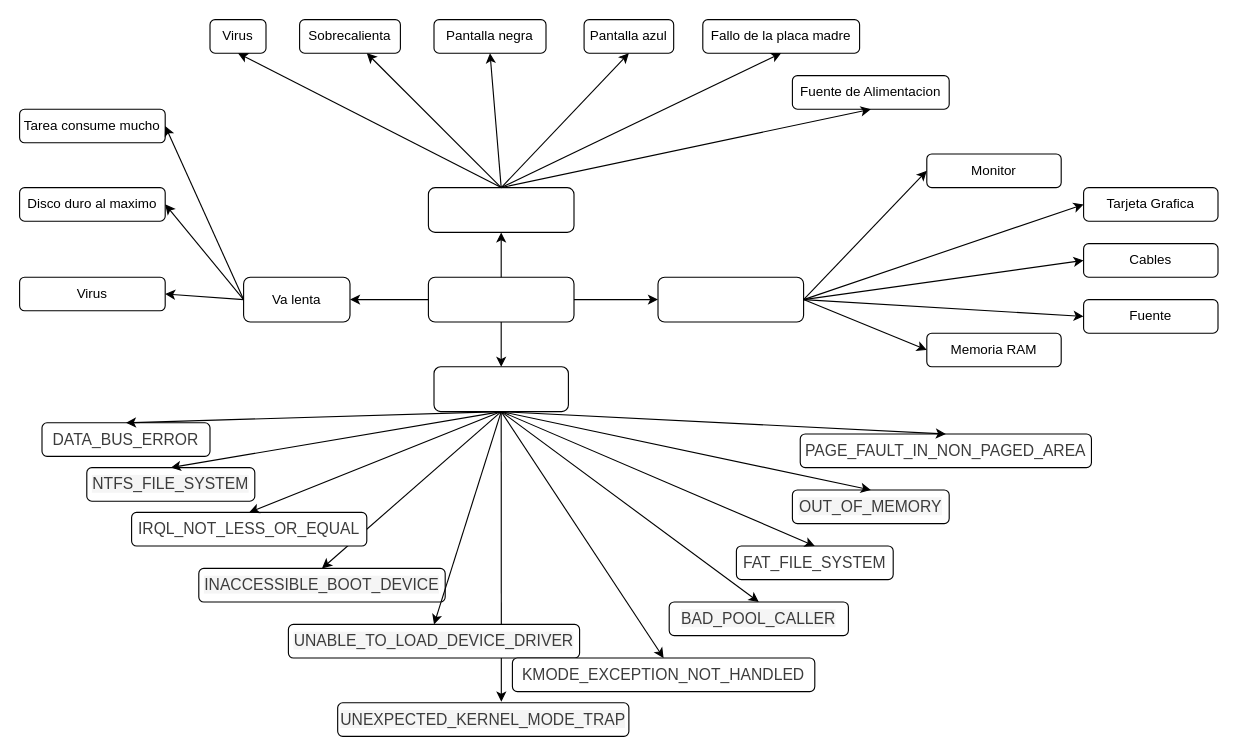
Image size: 1238x756. Some labels were removed from this diagram. The box of each missing label's shape, as (x1, y1, x2, y2) in pixels:
Cual es su problema?: (427, 276, 574, 322)
Pantallazo azul: (433, 366, 568, 412)
Se apaga/reinicia sola: (427, 186, 574, 232)
Se prende pero no se ve nada en el monitor: (657, 276, 804, 322)
